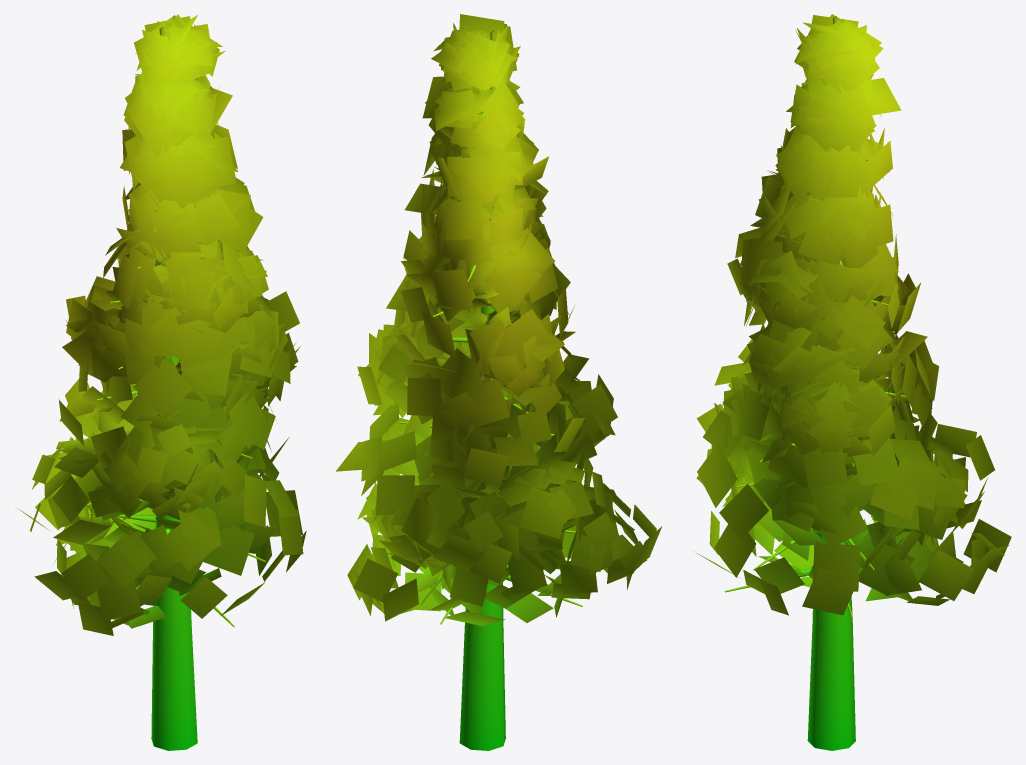
Rendered from sugi_b.glb.
The picture shows the model from 3 angles, left to right: view 1: azimuth 30°, elevation 25°; view 2: azimuth 150°, elevation 25°; view 3: azimuth 270°, elevation 25°; orthographic projection.
Visible parts, largest first — view 1: sugi_b; view 2: sugi_b; view 3: sugi_b.
Part boxes in pixels (x1,y1,x2,y2): sugi_b: (16,14,306,750); sugi_b: (336,14,661,750); sugi_b: (693,14,1011,750).
Bounding box in the file's own units: 4.71 × 11.98 × 4.8.
